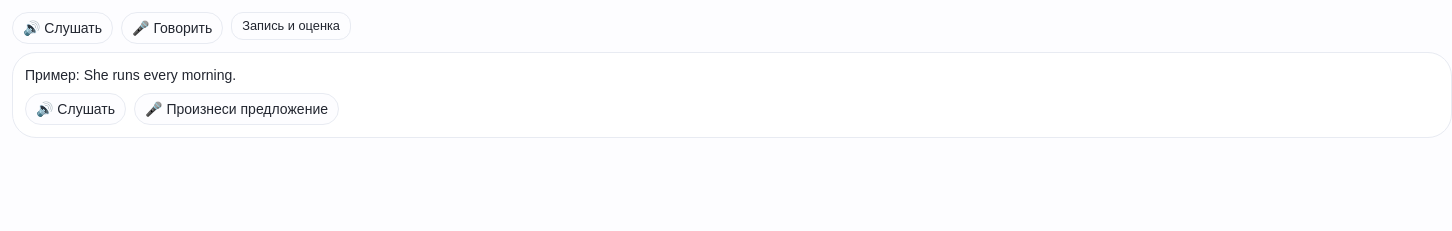
Test: PronounceControls › reports missing words when the spoken sentence differs
Check: the text "Пример: She runs every morning." is shown, box [25,67,236,83]
Click the button "🎤 Произнеси предложение": (237, 109) [134,93,339,125]
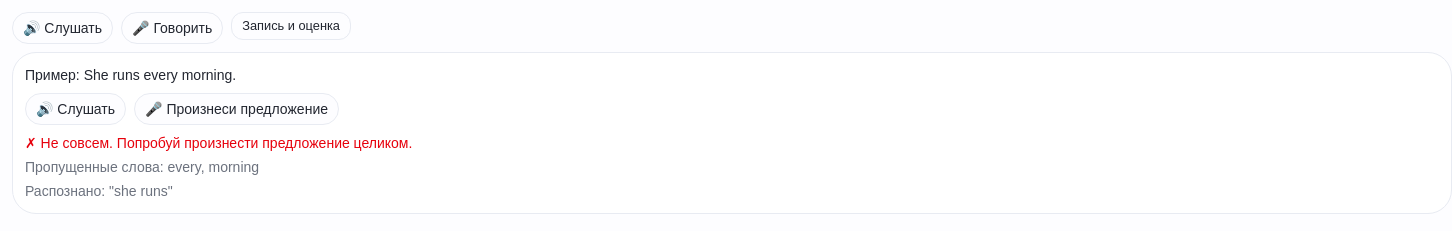
Check: the text "Пропущенные слова: every, morning" is shown, box [25,159,259,175]
